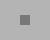Scratch: (22, 18, 28, 22)
Stain: (14, 27, 16, 29)
